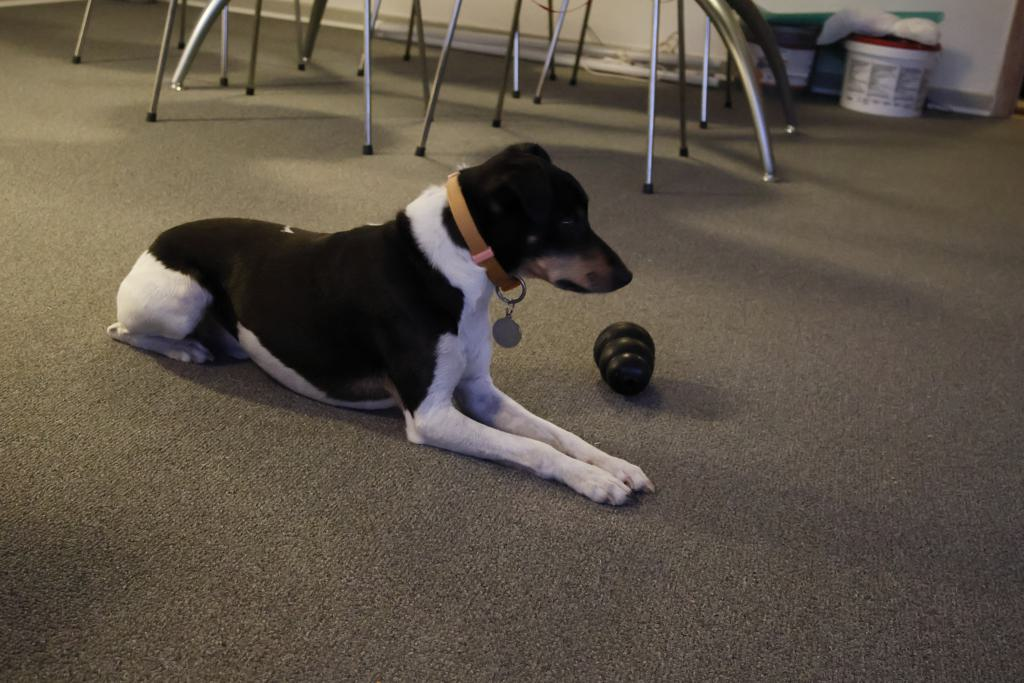Dog: (100, 134, 663, 510)
